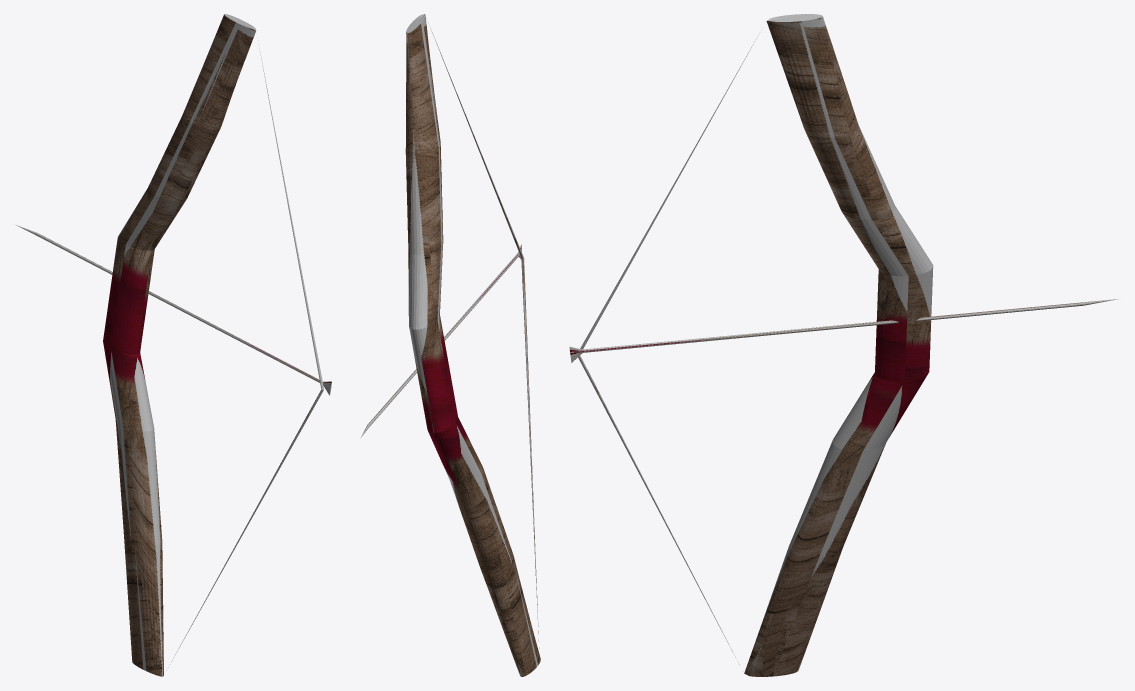
Rendered from Arco8.obj.
3 renders of one model, left to right at view 1: azimuth 30°, elevation 25°; view 2: azimuth 150°, elevation 25°; view 3: azimuth 270°, elevation 25°, orthographic. The views are drawn at different scales.
Visible parts, largest first — view 1: Cilindro; view 2: Cilindro; view 3: Cilindro.
Boxes of the visible parts, x1,y1,x2,y2 form: Cilindro: (16, 14, 331, 676); Cilindro: (360, 14, 540, 676); Cilindro: (569, 14, 1118, 676).
Bounding box in the file's own units: 0.1886 × 0.9705 × 0.6791.
1 material, 1 textured.
